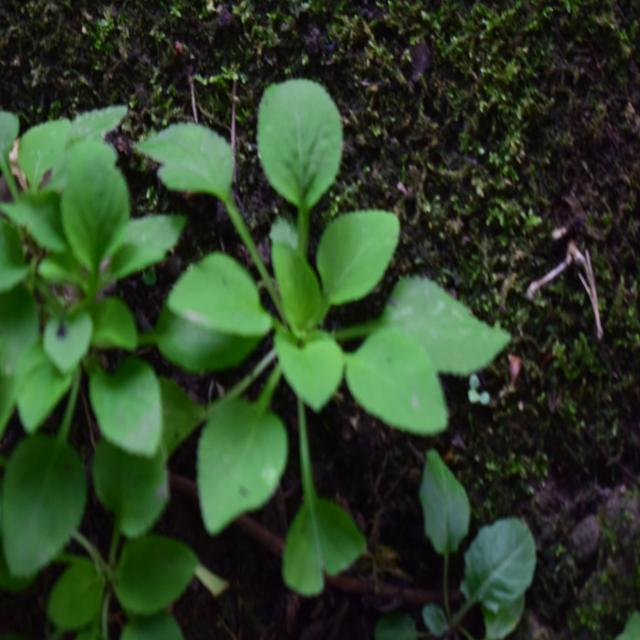Viola: (164, 66, 466, 504)
